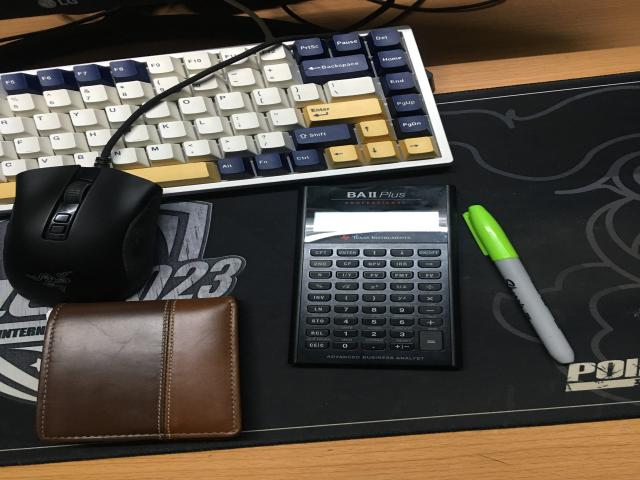Mouse: (5, 101, 162, 306)
Pen: (463, 205, 573, 363)
Wallet: (37, 296, 242, 442)
